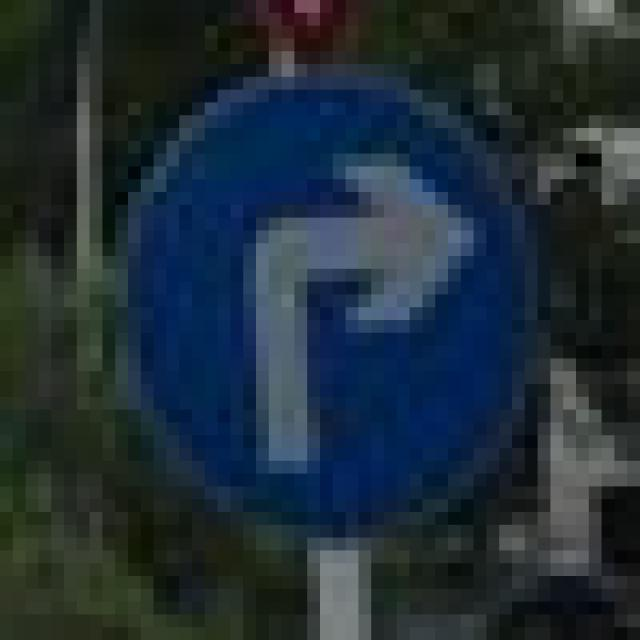TURN_RIGHT: (90, 51, 538, 538)
